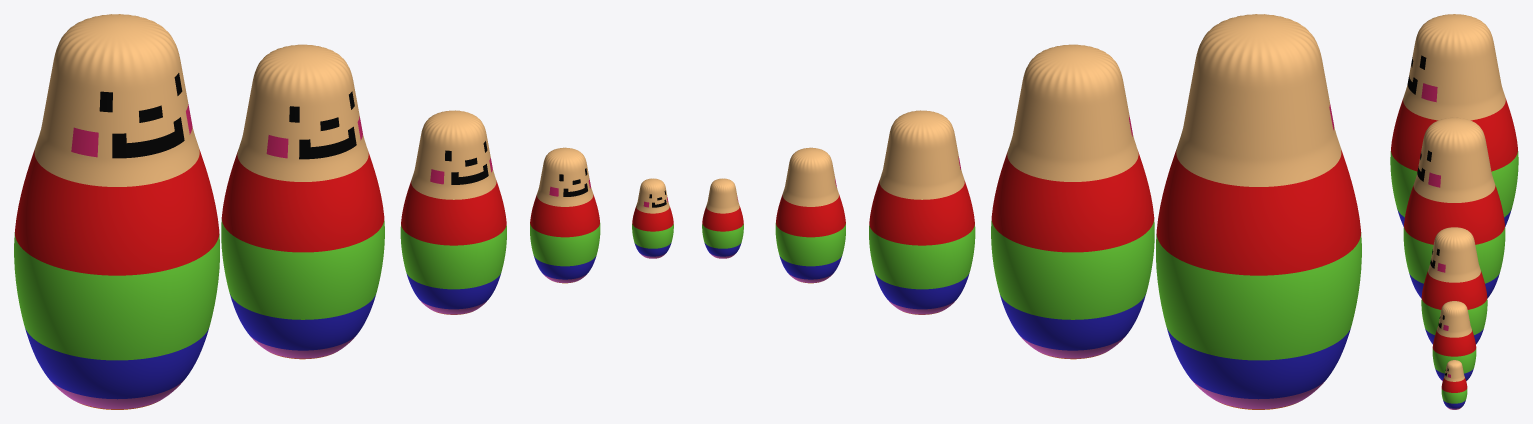
The model's file is matryoshka_russian_doll 1.glb.
The picture shows the model from 3 angles, left to right: view 1: azimuth 30°, elevation 25°; view 2: azimuth 150°, elevation 25°; view 3: azimuth 270°, elevation 25°; orthographic projection. The views are drawn at different scales.
Parts seen in each view (by area): view 1: Cylinder.005_2; view 2: Cylinder.005_2; view 3: Cylinder.005_2.
Boxes of the visible parts, x1=… form: Cylinder.005_2: x1=14, y1=14, x2=673, y2=409; Cylinder.005_2: x1=702, y1=14, x2=1361, y2=409; Cylinder.005_2: x1=1390, y1=14, x2=1518, y2=409.
Bounding box in the file's own units: 5.69 × 3.08 × 1.58.
